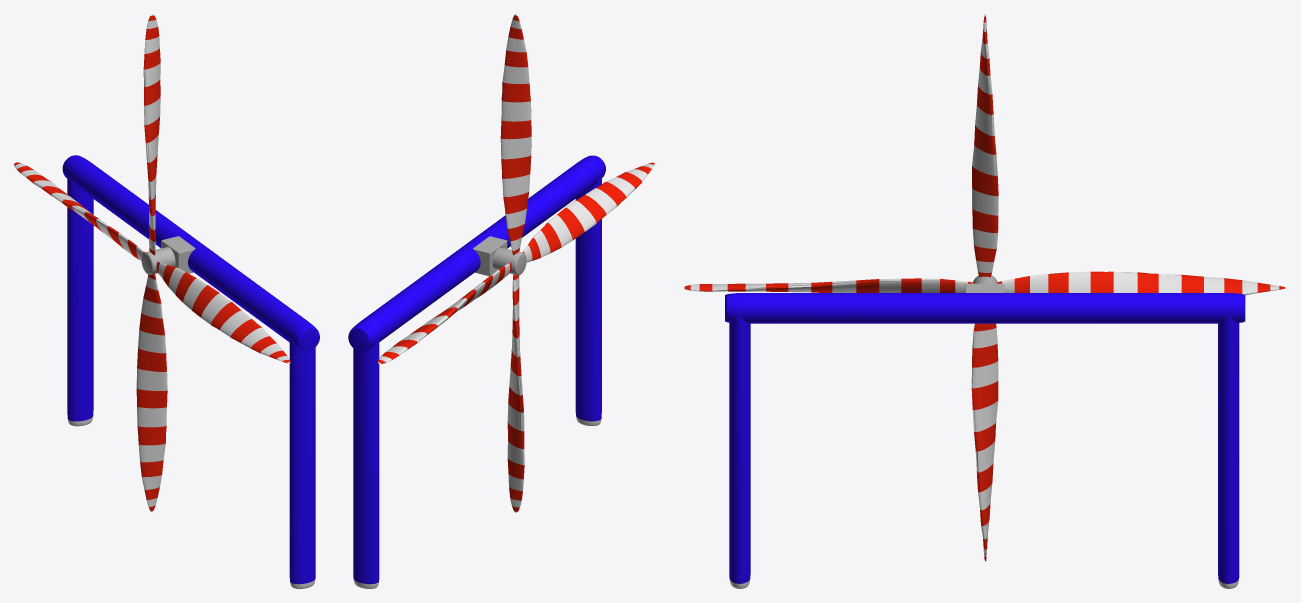
File: Obstacle15.fbx
The picture shows the model from 3 angles, left to right: view 1: azimuth 30°, elevation 25°; view 2: azimuth 150°, elevation 25°; view 3: azimuth 270°, elevation 25°; orthographic projection. The views are drawn at different scales.
Visible parts, largest first — view 1: F. Frame 1.002, Sphere.001, Cube, F. Frame 1; view 2: F. Frame 1.002, Sphere.001, Cube, F. Frame 1; view 3: F. Frame 1.002, Sphere.001.
Boxes of the visible parts, bbox=[...] form: F. Frame 1.002: bbox=[62, 155, 319, 588]; Sphere.001: bbox=[14, 14, 290, 511]; Cube: bbox=[161, 236, 195, 273]; F. Frame 1: bbox=[141, 247, 175, 274]; F. Frame 1.002: bbox=[348, 155, 605, 588]; Sphere.001: bbox=[377, 14, 654, 512]; Cube: bbox=[473, 236, 507, 276]; F. Frame 1: bbox=[492, 247, 526, 275]; F. Frame 1.002: bbox=[725, 293, 1245, 588]; Sphere.001: bbox=[683, 14, 1286, 561].
Bounding box in the file's own units: 119 × 911 × 908.
